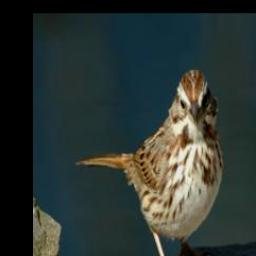Sparrow: (74, 68, 225, 256)
